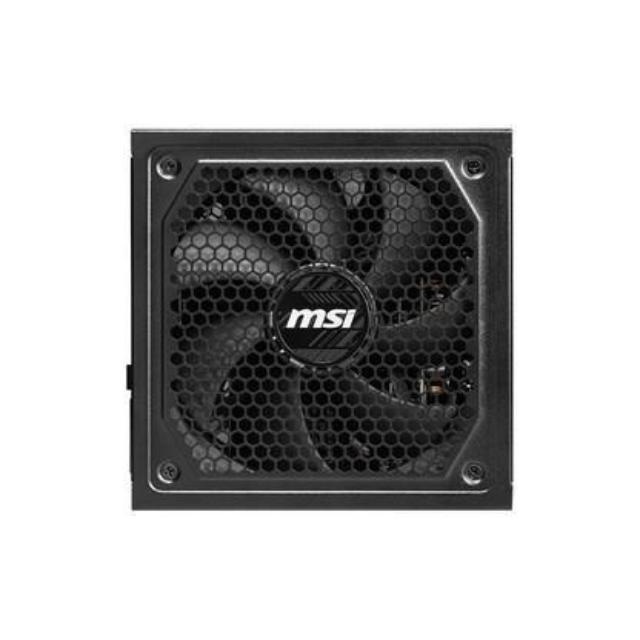PSU: (118, 123, 518, 523)
